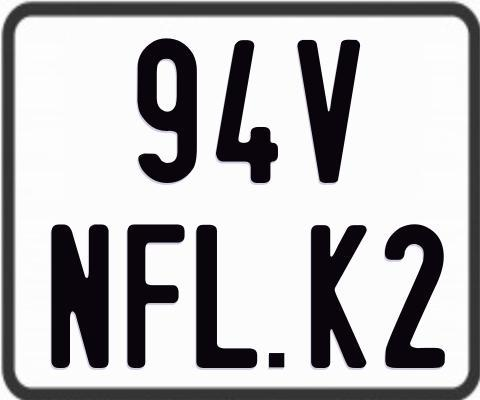2: (382, 223, 447, 370)
4: (214, 39, 280, 187)
9: (135, 38, 195, 189)
F: (125, 223, 188, 369)
K: (311, 222, 372, 371)
L: (195, 223, 261, 367)
N: (50, 222, 110, 371)
V: (295, 39, 363, 186)
